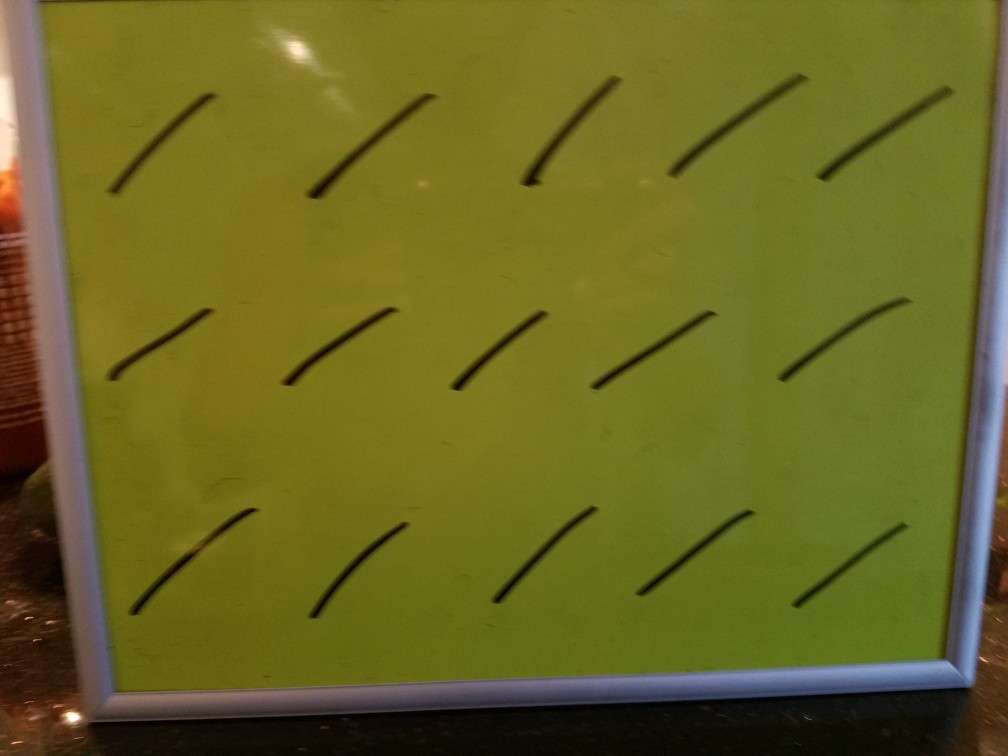/: (107, 493, 268, 622), (811, 58, 959, 197), (659, 46, 805, 186), (787, 498, 938, 624), (770, 280, 924, 399), (286, 75, 432, 199), (569, 286, 716, 409), (473, 485, 607, 617), (501, 64, 627, 201), (298, 497, 422, 636), (632, 487, 756, 615), (91, 75, 217, 198), (435, 287, 558, 409), (279, 286, 401, 395), (103, 295, 220, 393)
